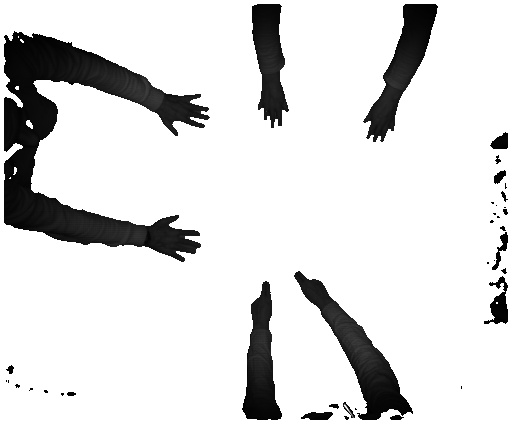hand: (149, 208, 207, 263), (162, 94, 215, 135), (360, 94, 401, 143), (288, 264, 332, 308), (256, 79, 295, 127), (248, 280, 271, 325)
